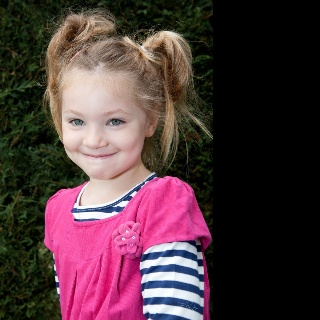without_mask: (62, 74, 149, 180)
